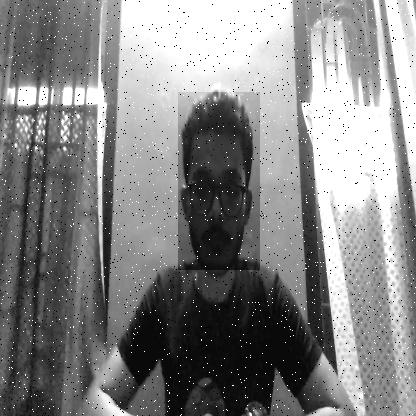Normal: (178, 92, 260, 270)
